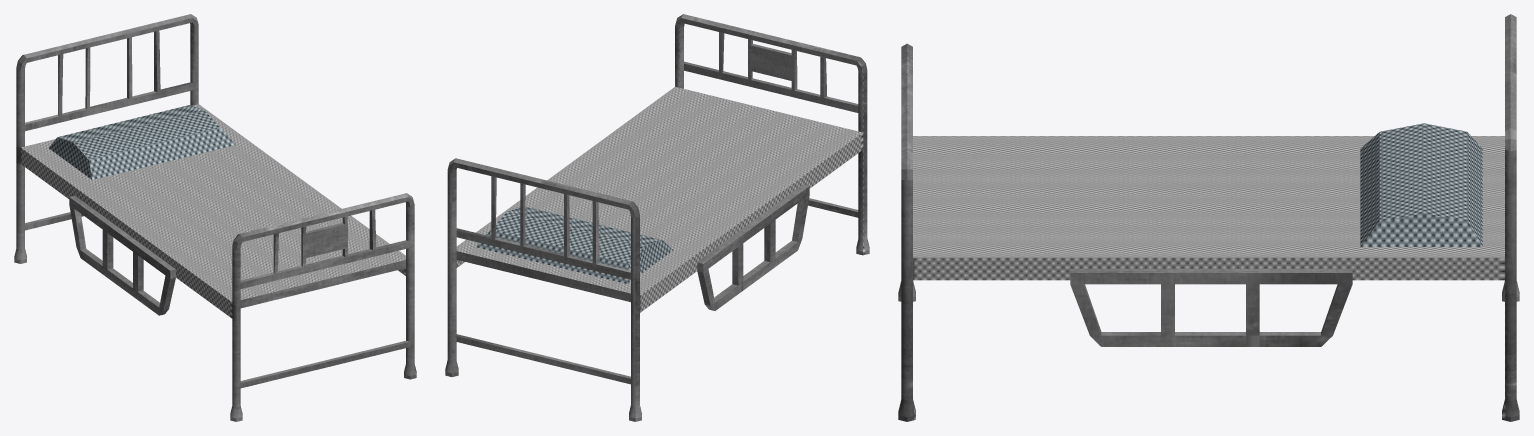
The model's file is BedHigh.obj.
3 views of the same model, side by side, from view 1: azimuth 30°, elevation 25°; view 2: azimuth 150°, elevation 25°; view 3: azimuth 270°, elevation 25° (orthographic). The views are drawn at different scales.
Visible parts, largest first — view 1: Box001; view 2: Box001; view 3: Box001.
Part boxes in pixels (left/top/right/bottom): Box001: left=14, top=14, right=416, bottom=421; Box001: left=445, top=14, right=869, bottom=421; Box001: left=898, top=14, right=1519, bottom=421.
Size of the model in its own units: 66.32 by 68.69 by 135.
